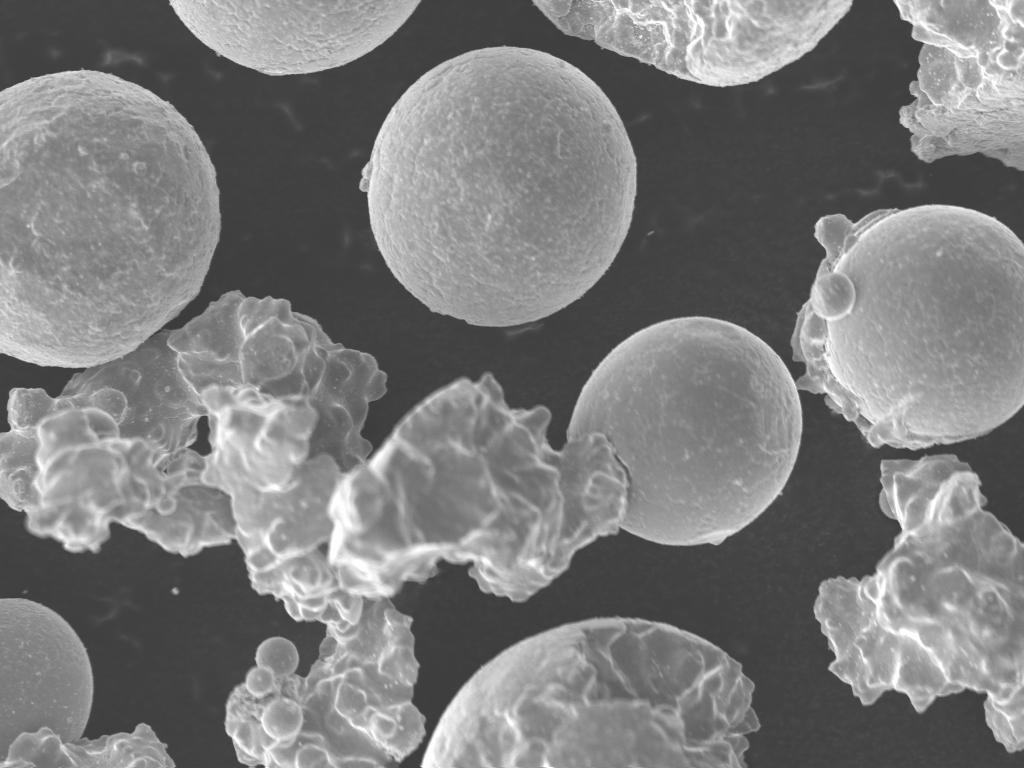Powder: (0, 292, 628, 766), (360, 46, 636, 325), (0, 70, 220, 367), (814, 456, 1024, 752), (792, 206, 1024, 449), (568, 316, 802, 545), (422, 618, 760, 766), (0, 598, 174, 767), (534, 1, 852, 86), (895, 0, 1024, 169), (170, 1, 420, 75)
